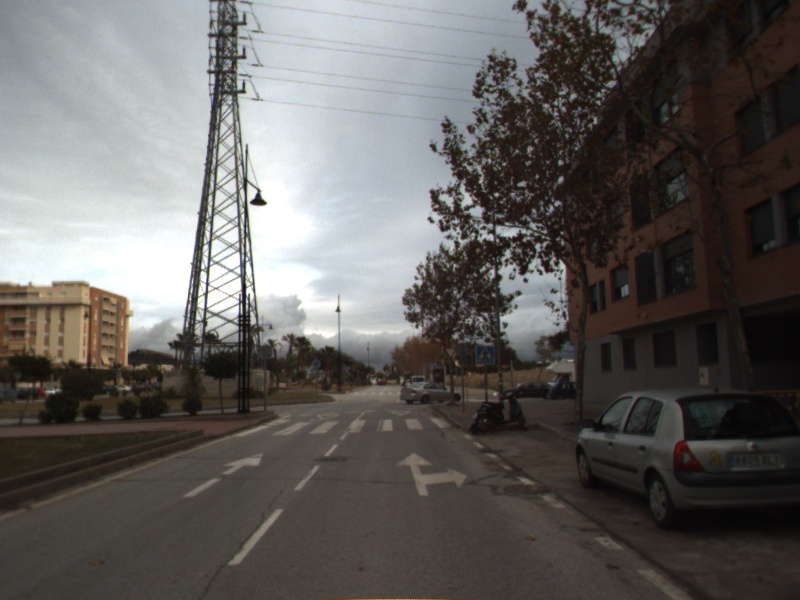STRAIGHT: (181, 450, 266, 500)
STRAIGHT_RIGHT: (394, 450, 469, 498)
